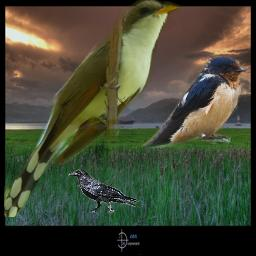Crow: (68, 169, 142, 214)
Cuckoo: (4, 0, 180, 217)
Swallow: (142, 55, 248, 149)
